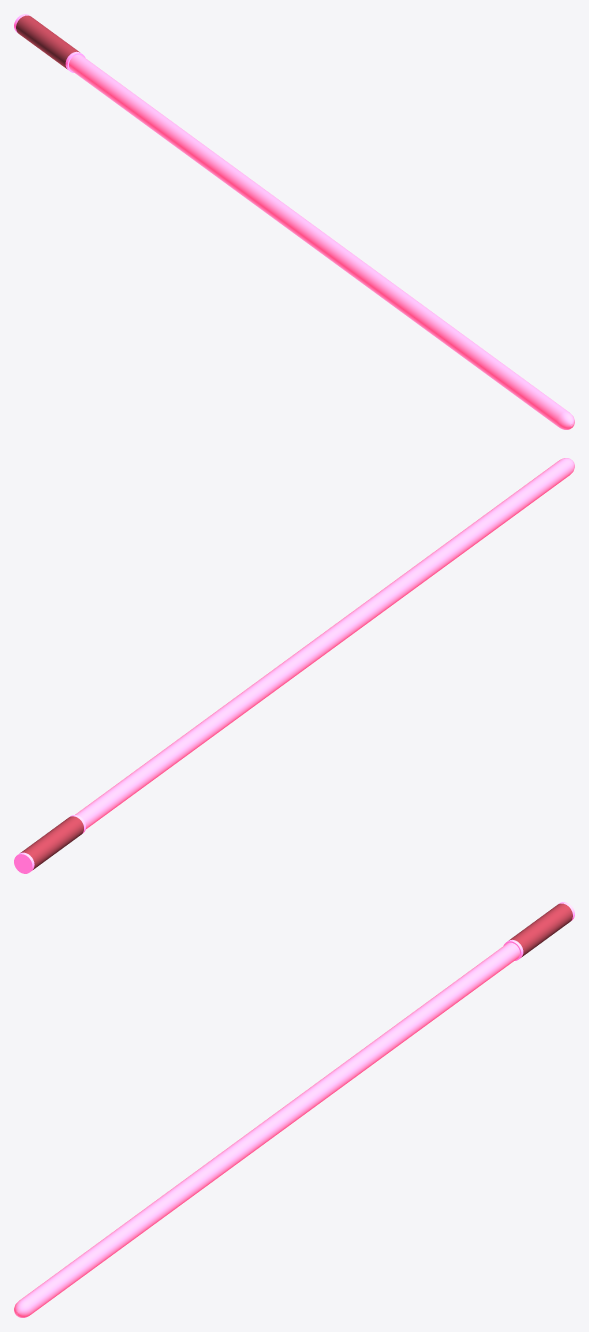
3 views of the same model, one above another, from view 1: azimuth 30°, elevation 25°; view 2: azimuth 150°, elevation 25°; view 3: azimuth 330°, elevation 25° (orthographic).
Parts seen in each view (by area): view 1: Cylinder.002, Cylinder; view 2: Cylinder.002, Cylinder; view 3: Cylinder.002, Cylinder.
Boxes of the visible parts, bbox=[...] form: Cylinder.002: bbox=[69, 54, 574, 429]; Cylinder: bbox=[16, 15, 79, 69]; Cylinder.002: bbox=[75, 458, 574, 828]; Cylinder: bbox=[20, 816, 83, 869]; Cylinder.002: bbox=[14, 942, 519, 1317]; Cylinder: bbox=[509, 903, 572, 957].
Size of the model in its own units: 2.09 by 2.09 by 107.
